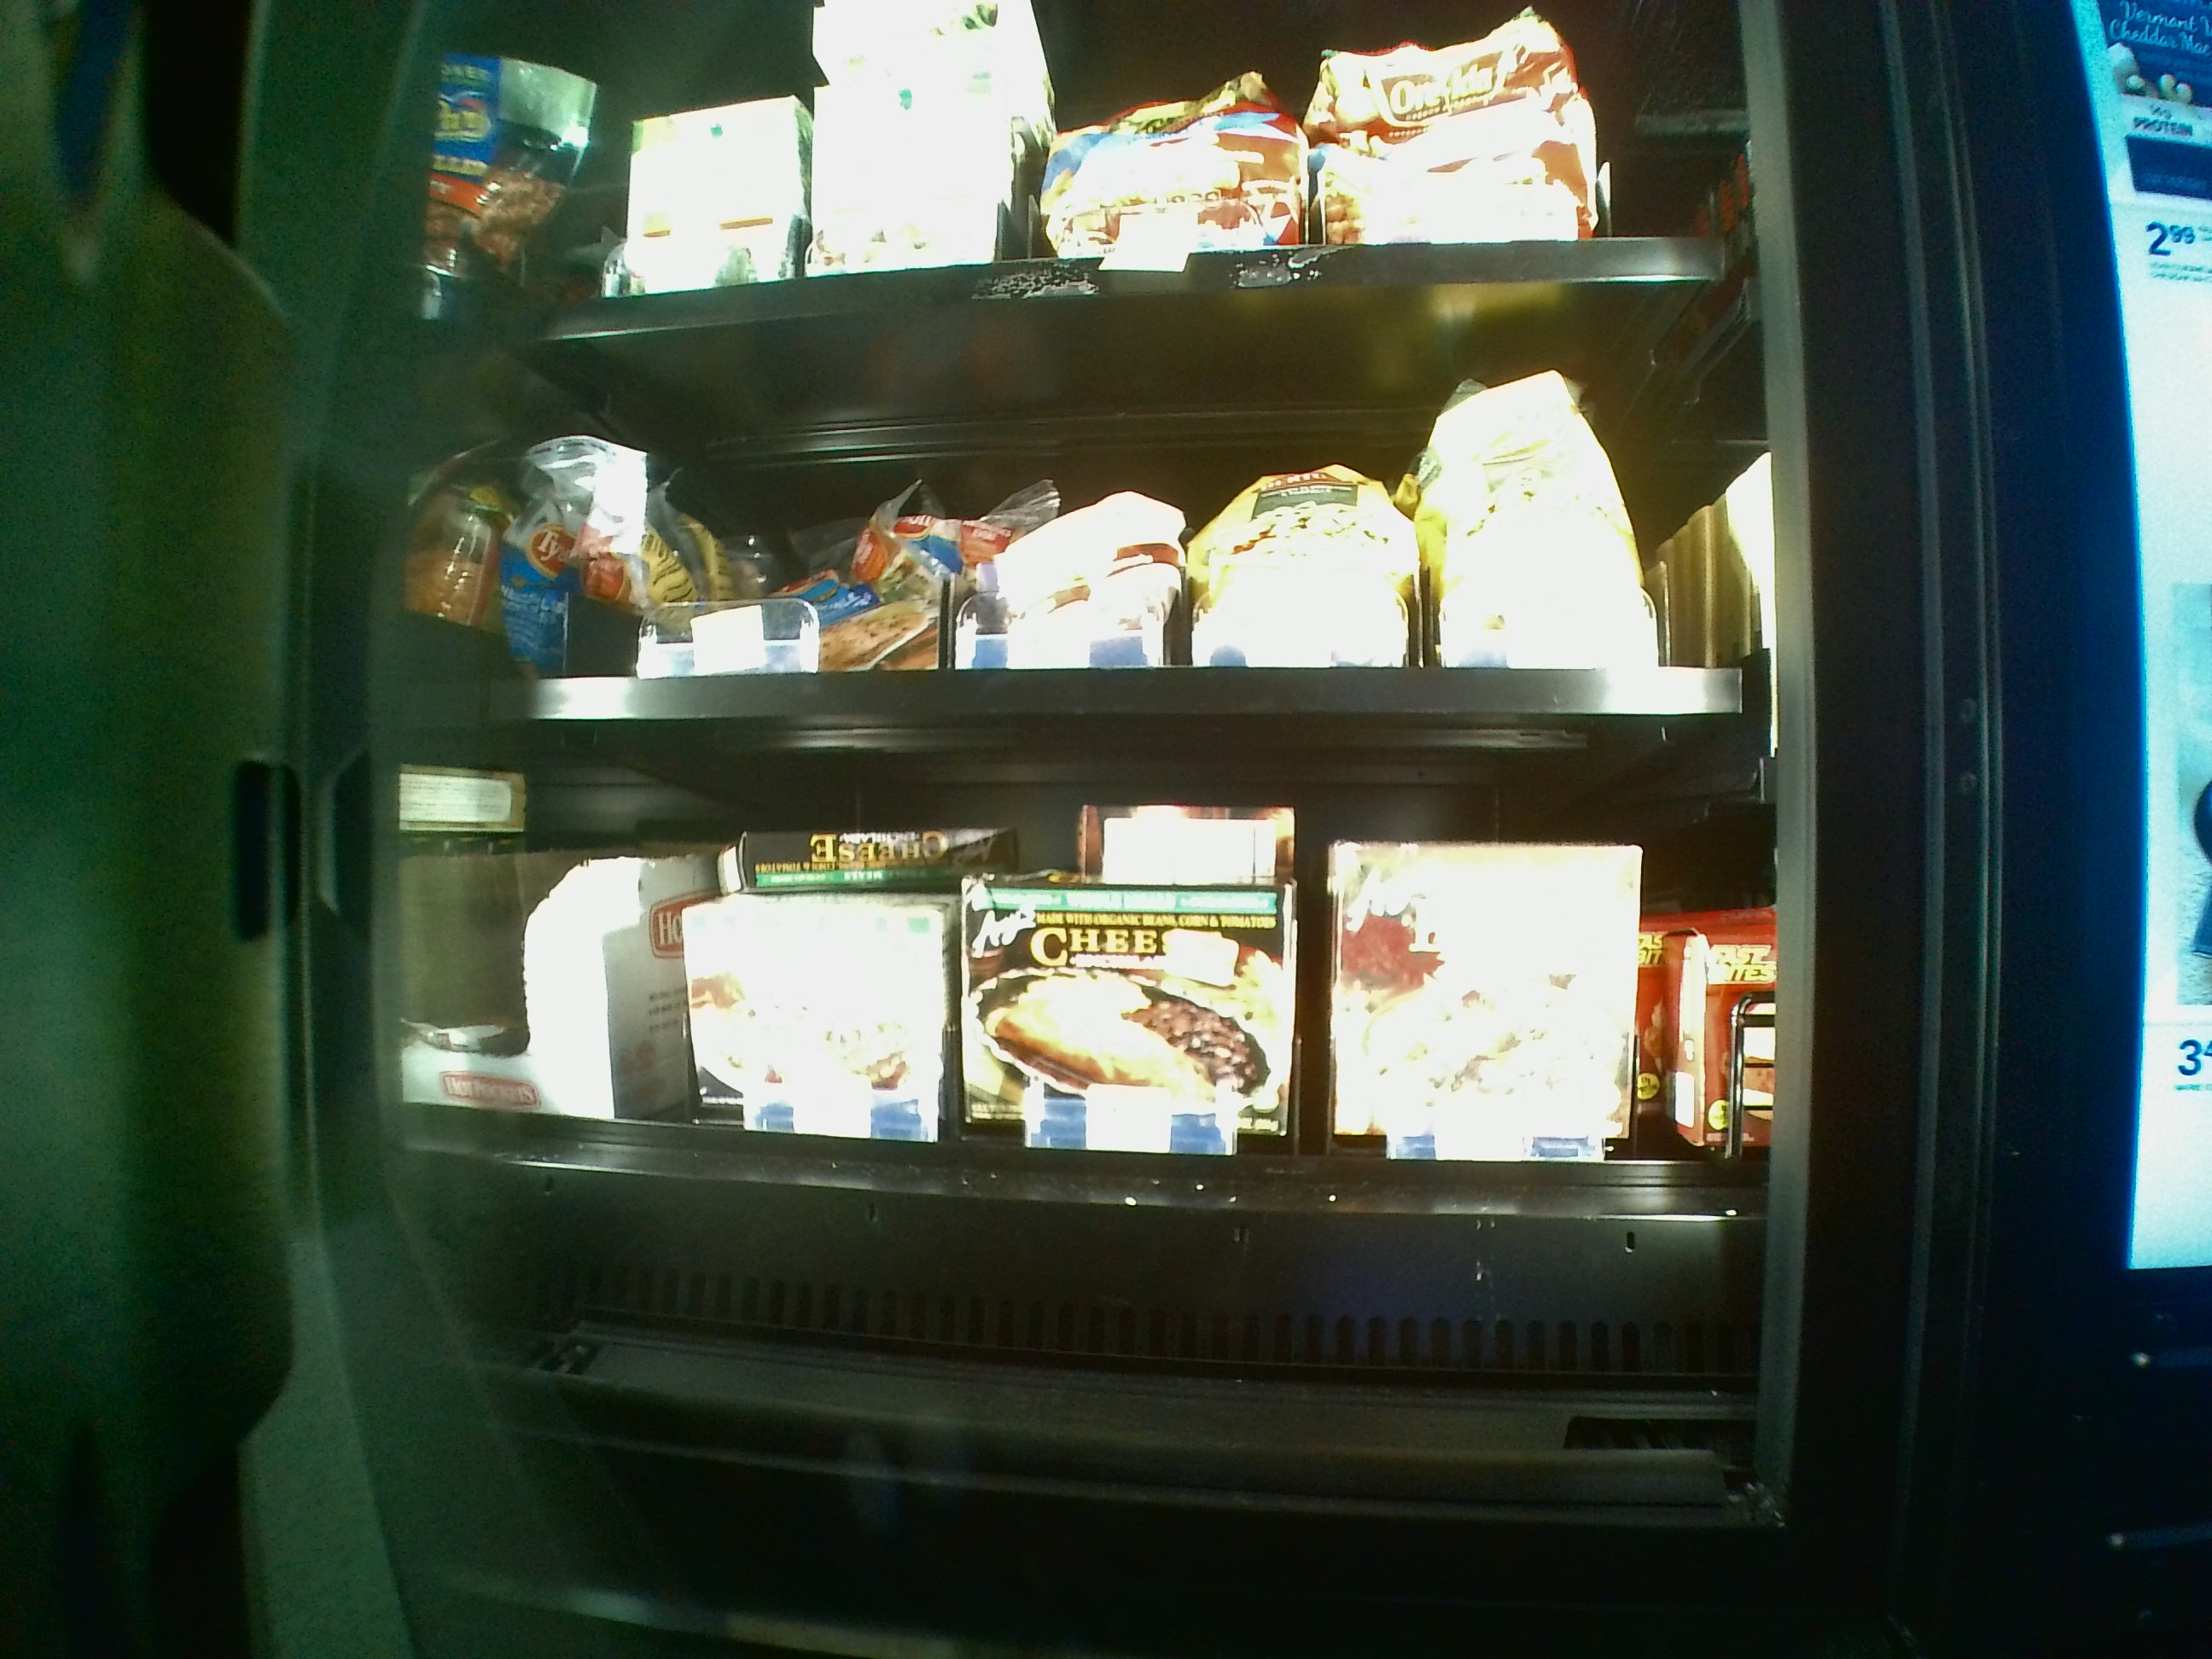shelf: (394, 734, 1759, 1446), (380, 284, 1749, 723)
